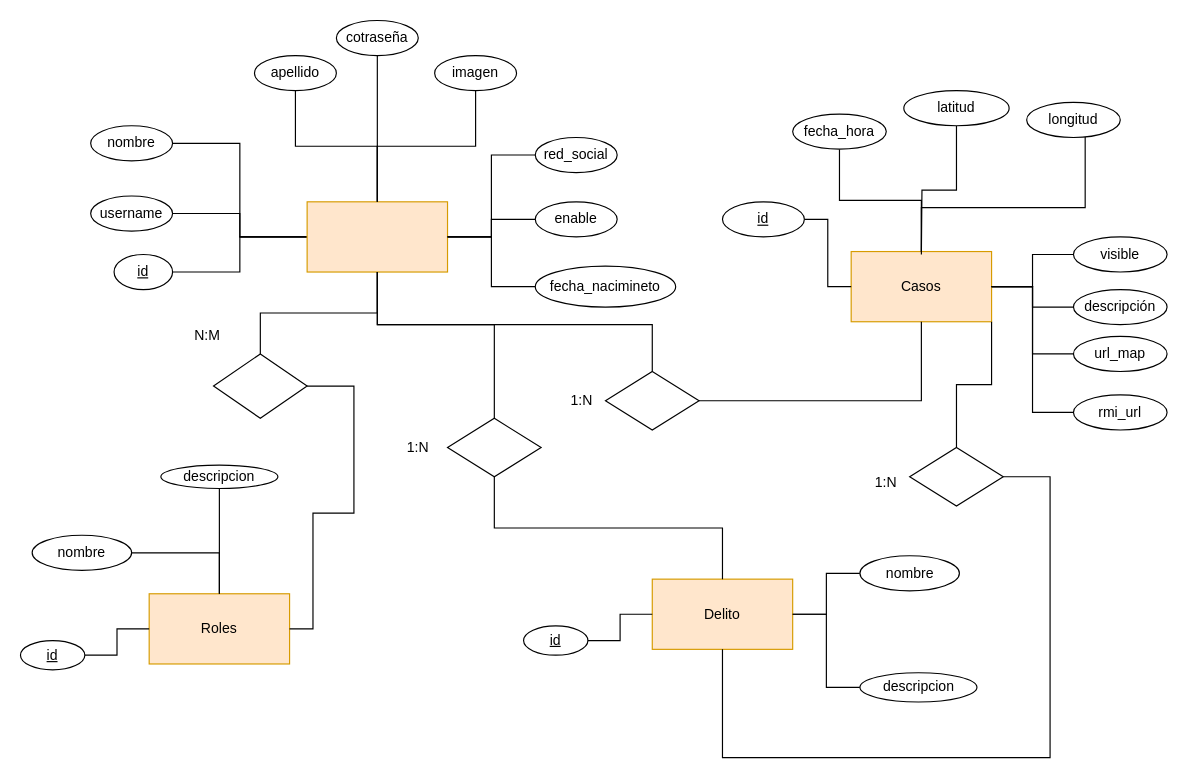
This 1188x779 diagram has some shape labels left out. The centre of each missing label's shape, as x and y in pixels:
incluye: point 956,476
Registra: point 493,447
Reporta: point 651,400
Tiene: point 259,385
Usuarios: point 377,236
